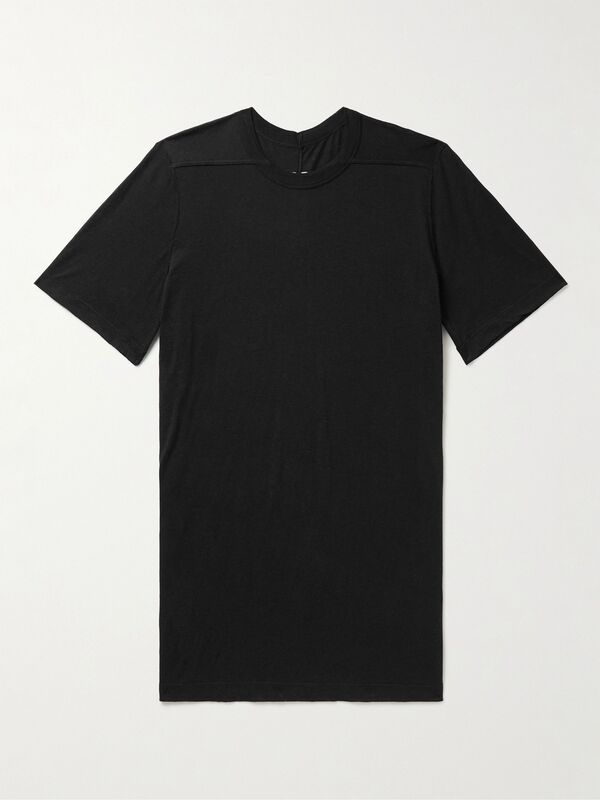tshirt: (29, 100, 575, 716)
